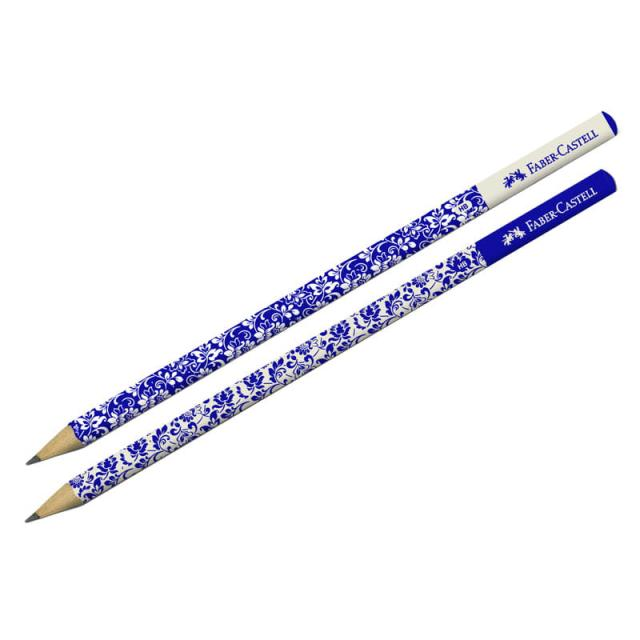pencil: (20, 101, 631, 473), (19, 163, 625, 526)
